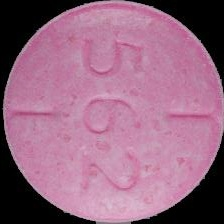63629-4244: (0, 0, 224, 224)
